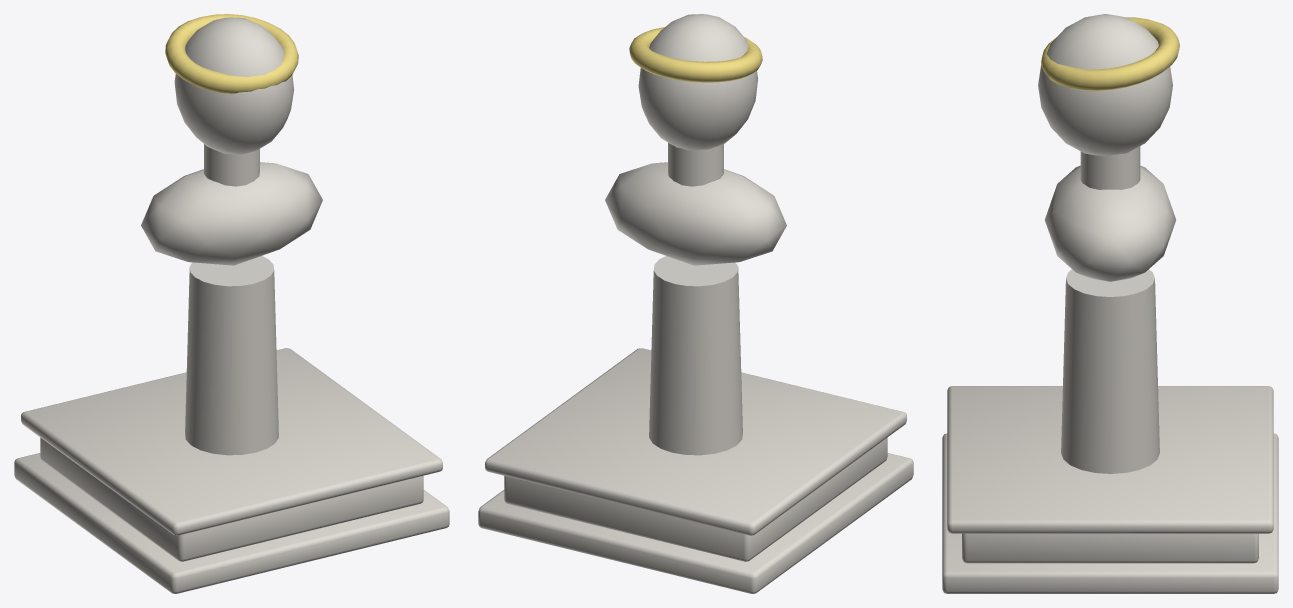
The model's file is Louvre_Alfil.fbx.
3 views of the same model, side by side, from view 1: azimuth 30°, elevation 25°; view 2: azimuth 150°, elevation 25°; view 3: azimuth 270°, elevation 25° (orthographic). The views are drawn at different scales.
Visible parts, largest first — view 1: Louvre_Alfil; view 2: Louvre_Alfil; view 3: Louvre_Alfil.
Boxes of the visible parts, box(x1,y1,x2,y2) form: Louvre_Alfil: box(14, 14, 449, 593); Louvre_Alfil: box(478, 14, 913, 593); Louvre_Alfil: box(942, 14, 1278, 593).
Bounding box in the file's own units: 0.68 × 1.13 × 0.68.
